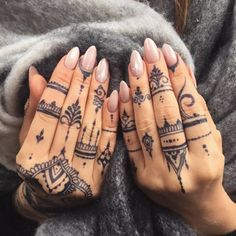finger: (161, 41, 236, 156), (139, 39, 188, 157), (38, 46, 80, 167), (125, 54, 169, 162), (86, 55, 111, 175), (76, 41, 97, 168), (118, 81, 146, 165), (102, 88, 119, 176)
